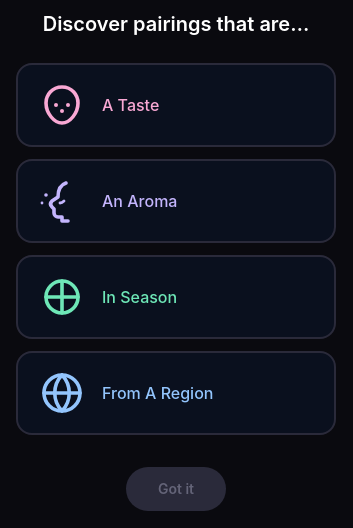
Test case: GuidedFilterTypeCard › clicking a pill highlights it and enables Got-it
The image size is (353, 528).
What coordinates should you click on to do the following:
click the radio button labelled "a taste"
I would click on:
 (62, 104)
Its box is [16, 62, 336, 146].
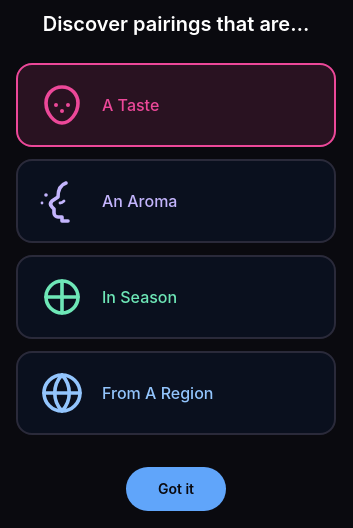
Check: the button "Got it" is enabled, box [126, 466, 226, 510]
